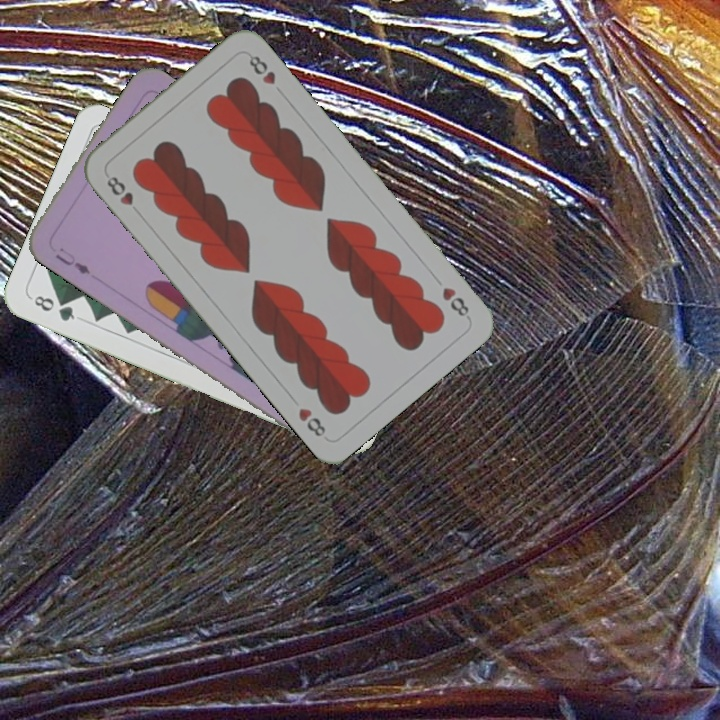EU: (51, 243, 93, 277)
G8: (29, 291, 78, 324)
H8: (102, 172, 145, 219), (438, 283, 473, 322)
